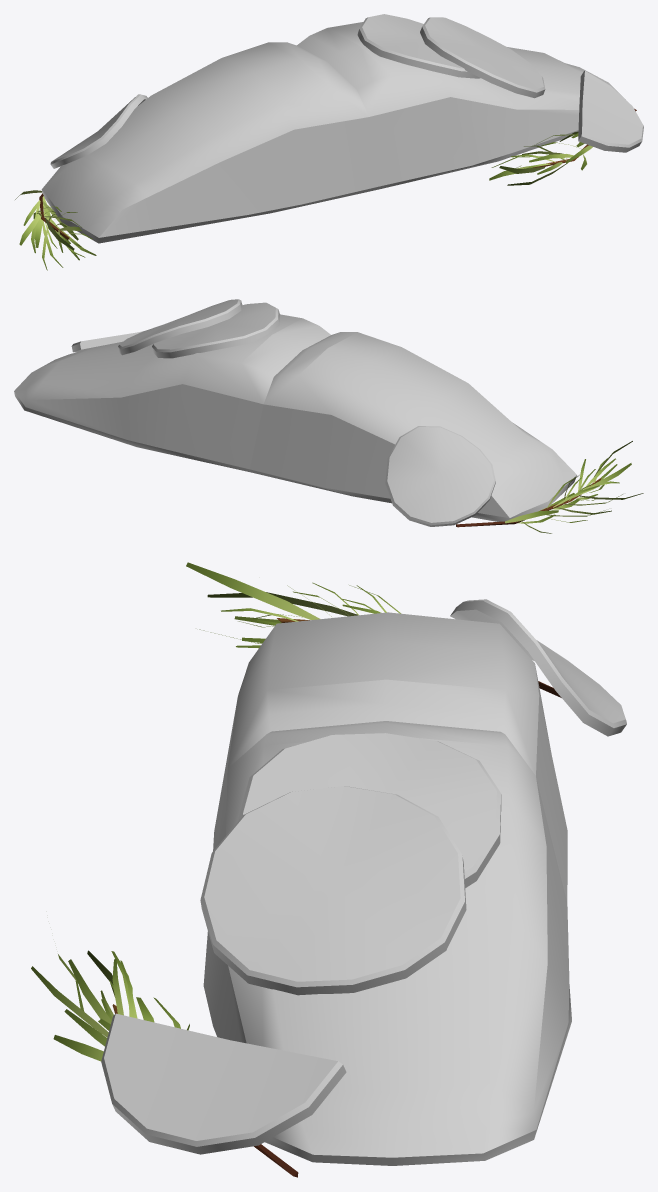
File: CookedTroutFilet_01.fbx
The picture shows the model from 3 angles, top to bottom: view 1: azimuth 30°, elevation 25°; view 2: azimuth 150°, elevation 25°; view 3: azimuth 270°, elevation 25°; orthographic projection. The views are drawn at different scales.
Visible parts, largest first — view 1: troutfilet_cooked_01, lemonslice_full03, lemonslice_half01, lemonslice_full02, lemonslice_full04; view 2: troutfilet_cooked_01, lemonslice_full04, lemonslice_full02, lemonslice_full03, lemonslice_half01, rosemarystalk02; view 3: troutfilet_cooked_01, lemonslice_full03, lemonslice_half01, lemonslice_full02, lemonslice_full04, rosemaryleaf033.
Part boxes in pixels (x1=…): troutfilet_cooked_01: x1=41, y1=22, x2=625, y2=243; lemonslice_full03: x1=420, y1=17, x2=545, y2=98; lemonslice_half01: x1=578, y1=71, x2=643, y2=152; lemonslice_full02: x1=357, y1=14, x2=480, y2=78; lemonslice_full04: x1=50, y1=94, x2=147, y2=168; troutfilet_cooked_01: x1=14, y1=314, x2=576, y2=521; lemonslice_full04: x1=385, y1=426, x2=495, y2=526; lemonslice_full02: x1=152, y1=302, x2=279, y2=358; lemonslice_full03: x1=118, y1=299, x2=242, y2=355; lemonslice_half01: x1=71, y1=331, x2=143, y2=352; rosemarystalk02: x1=456, y1=478, x2=601, y2=527; troutfilet_cooked_01: x1=203, y1=612, x2=571, y2=1165; lemonslice_full03: x1=200, y1=786, x2=466, y2=995; lemonslice_half01: x1=101, y1=1013, x2=346, y2=1154; lemonslice_full02: x1=238, y1=733, x2=501, y2=887; lemonslice_full04: x1=450, y1=599, x2=626, y2=736; rosemaryleaf033: x1=186, y1=562, x2=320, y2=619.
Bounding box in the file's own units: 19.08 × 3.73 × 8.57.
